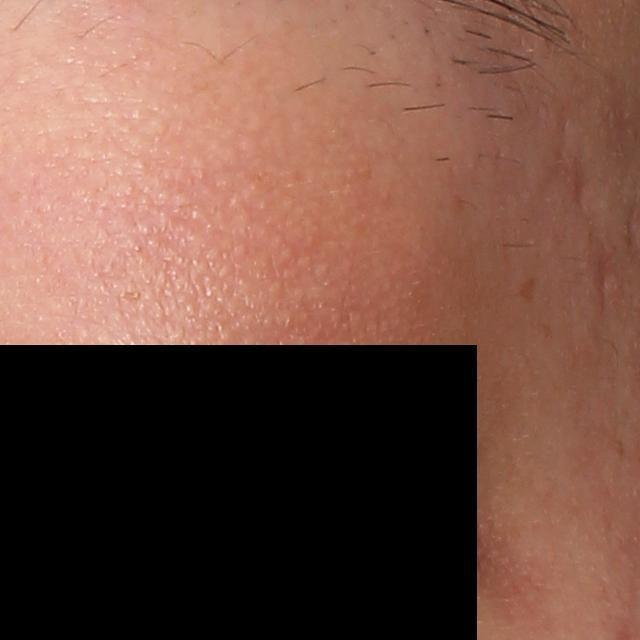melasma: (514, 276, 541, 306)
